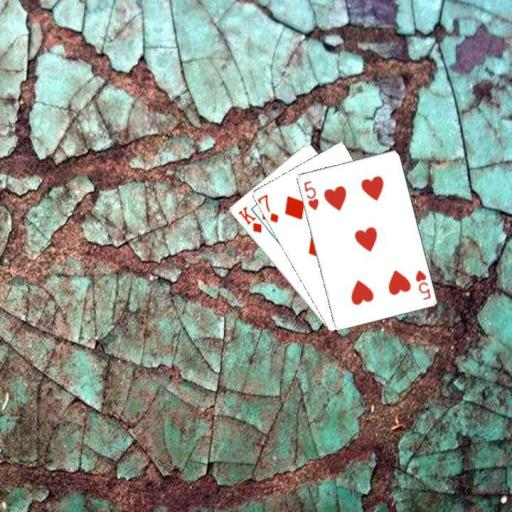5H: (412, 267, 432, 302), (300, 177, 320, 211)
7D: (255, 191, 280, 225)
KD: (235, 203, 263, 235)
